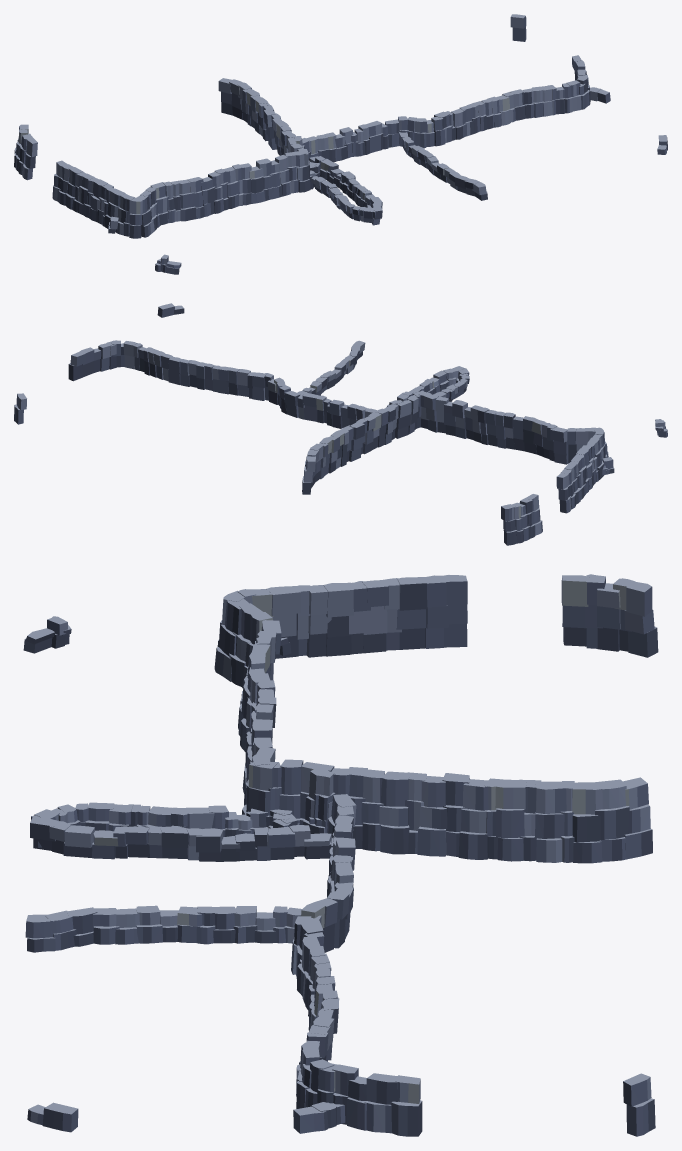
The model's file is Colony_Meadow_Cliffs.fbx.
3 views of the same model, one above another, from view 1: azimuth 30°, elevation 25°; view 2: azimuth 150°, elevation 25°; view 3: azimuth 270°, elevation 25° (orthographic). The views are drawn at different scales.
Parts seen in each view (by area): view 1: Colony_Meadow_Cliffs.001; view 2: Colony_Meadow_Cliffs.001; view 3: Colony_Meadow_Cliffs.001.
Boxes of the visible parts, <box> form: Colony_Meadow_Cliffs.001: <box>14,14,667,274</box>; Colony_Meadow_Cliffs.001: <box>14,303,667,545</box>; Colony_Meadow_Cliffs.001: <box>23,574,658,1136</box>.
Bounding box in the file's own units: 108 × 7.04 × 57.78.
